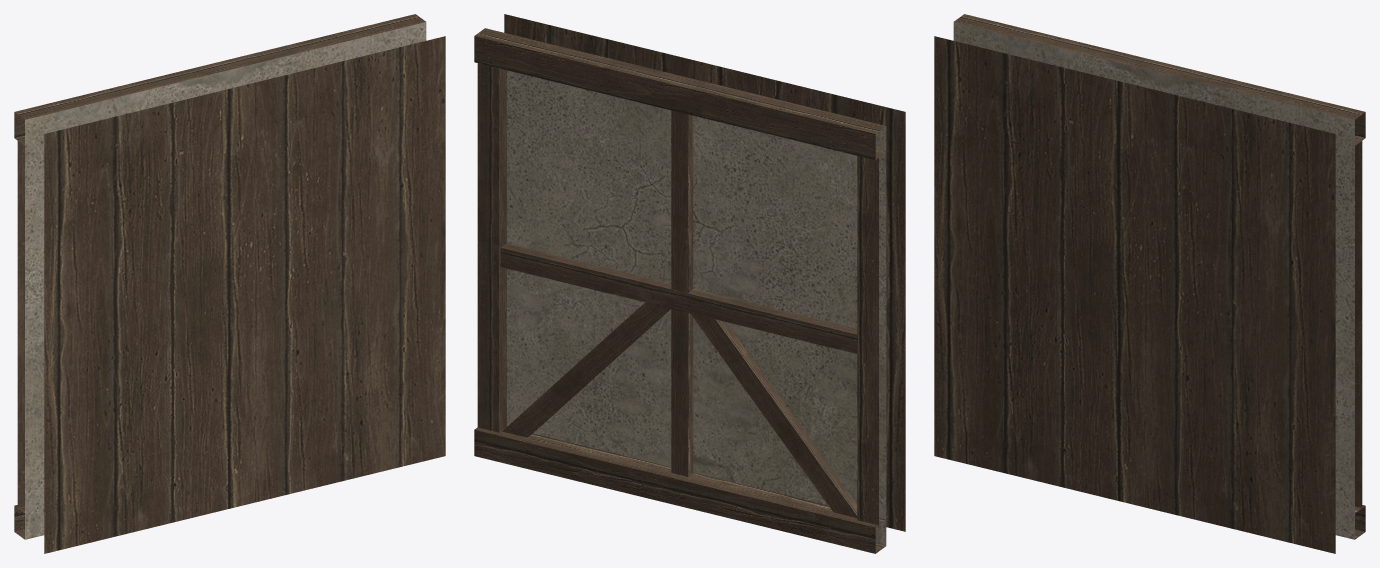
Rendered from ARC1010257.fbx.
3 views of the same model, side by side, from view 1: azimuth 30°, elevation 25°; view 2: azimuth 150°, elevation 25°; view 3: azimuth 330°, elevation 25° (orthographic).
Visible parts, largest first — view 1: smARC1010257; view 2: smARC1010257; view 3: smARC1010257.
Part boxes in pixels (x1,y1,x2,y2): smARC1010257: (14,14,445,553); smARC1010257: (474,14,905,553); smARC1010257: (934,14,1365,553).
Size of the model in its own units: 268 by 268 by 34.9.
1 material, 1 textured.
